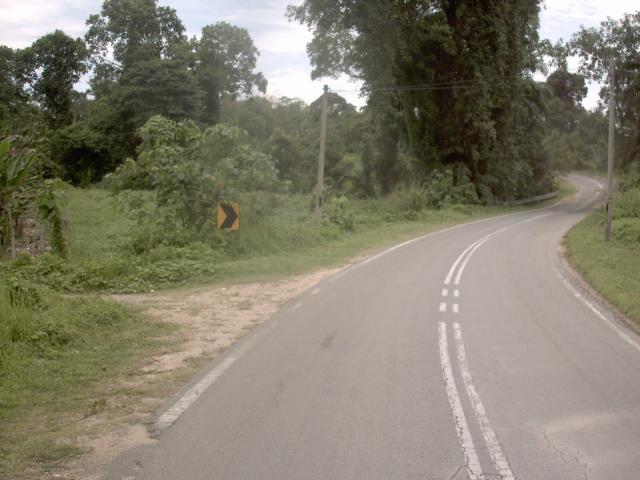traffic_sign: (210, 193, 247, 240)
